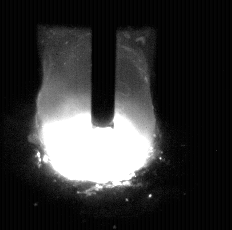arame: (92, 0, 116, 130)
poca: (40, 0, 153, 230)
